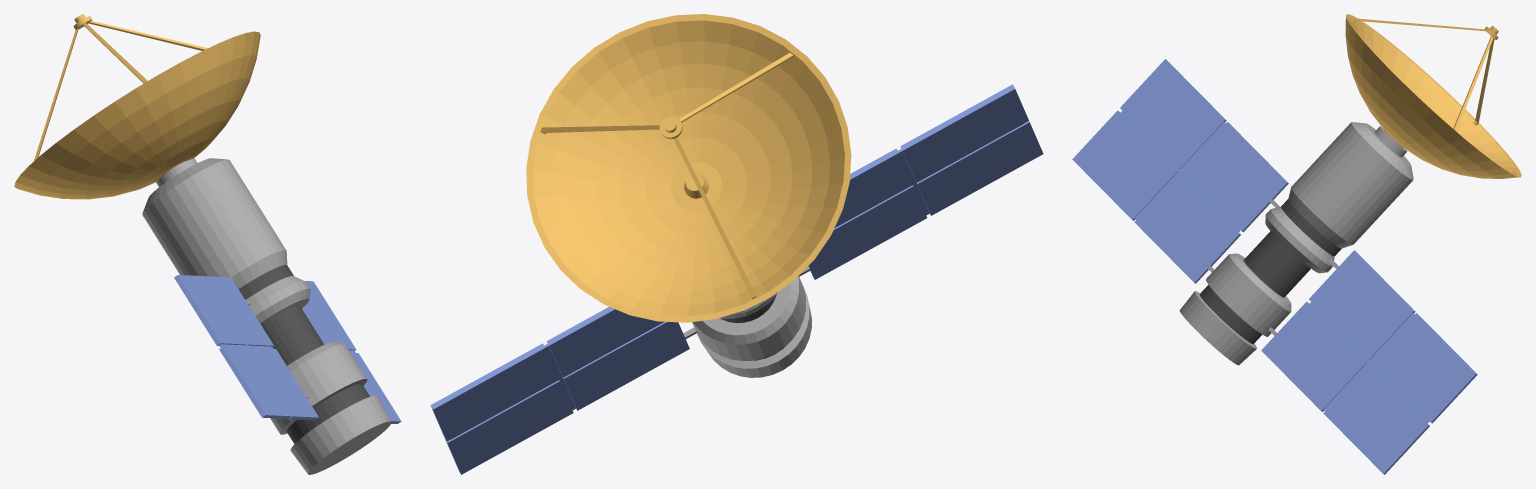
The model's file is borisSatellite.glb.
3 renders of one model, left to right at view 1: azimuth 30°, elevation 25°; view 2: azimuth 150°, elevation 25°; view 3: azimuth 270°, elevation 25°, orthographic. The views are drawn at different scales.
Parts seen in each view (by area): view 1: satellite; view 2: satellite; view 3: satellite.
Part boxes in pixels (x1,y1,x2,y2): satellite: (14, 14, 401, 474); satellite: (430, 14, 1043, 474); satellite: (1072, 14, 1521, 474).
Size of the model in its own units: 3.28 by 3.85 by 4.31.
